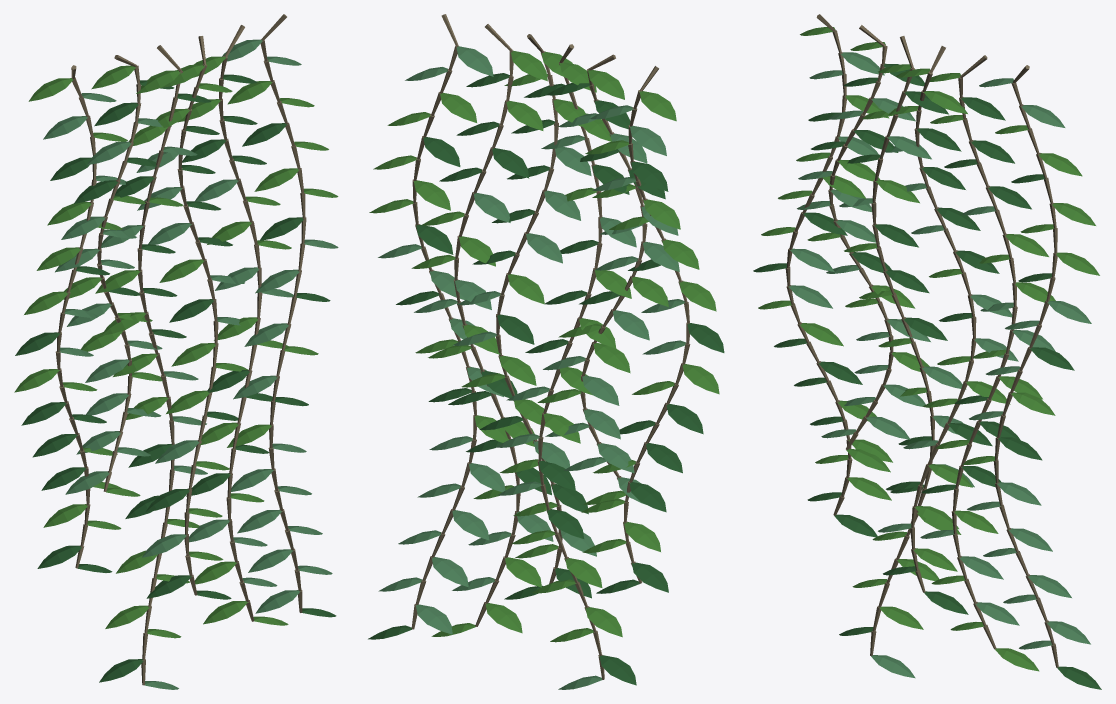
Rendered from hanging_vine_cluster.glb.
3 renders of one model, left to right at view 1: azimuth 30°, elevation 25°; view 2: azimuth 150°, elevation 25°; view 3: azimuth 330°, elevation 25°, orthographic. The views are drawn at different scales.
Visible parts, largest first — view 1: hanging_vine_cluster; view 2: hanging_vine_cluster; view 3: hanging_vine_cluster.
Boxes of the visible parts, left/top/right/bottom form: hanging_vine_cluster: left=14, top=14, right=338, bottom=689; hanging_vine_cluster: left=368, top=14, right=724, bottom=689; hanging_vine_cluster: left=753, top=14, right=1101, bottom=689.
Bounding box in the file's own units: 1.76 × 3.21 × 0.2905.
